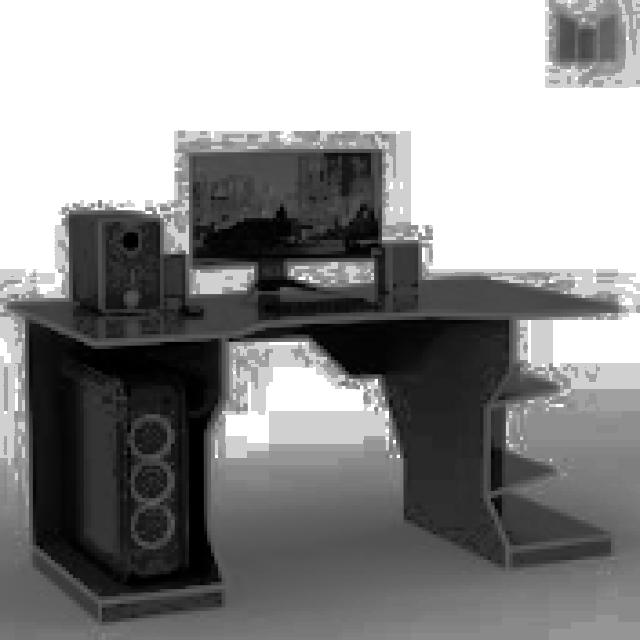table: (11, 273, 622, 622)
